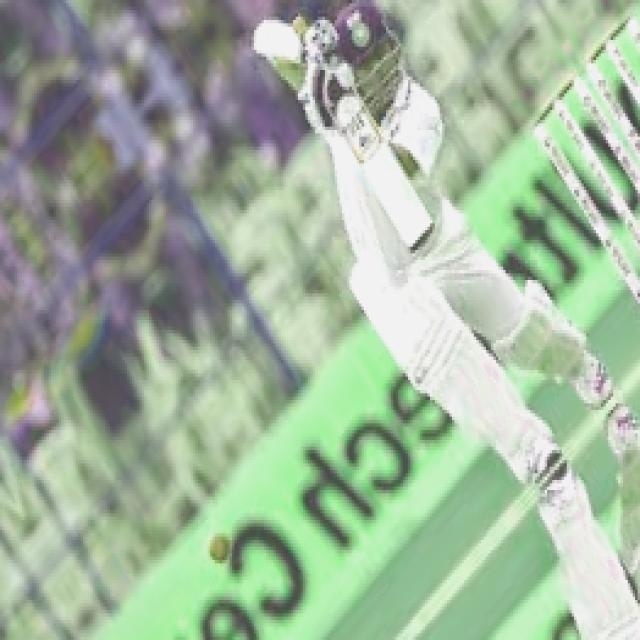toe: (389, 202, 437, 255)
